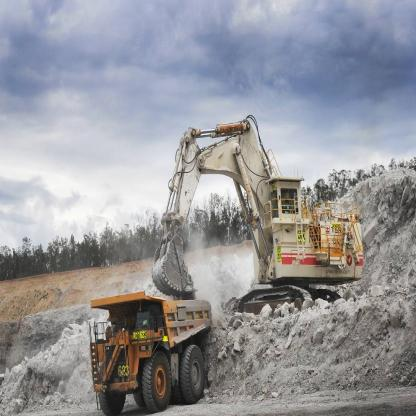dump_truck: (87, 294, 221, 413)
excavator: (152, 94, 379, 326)
